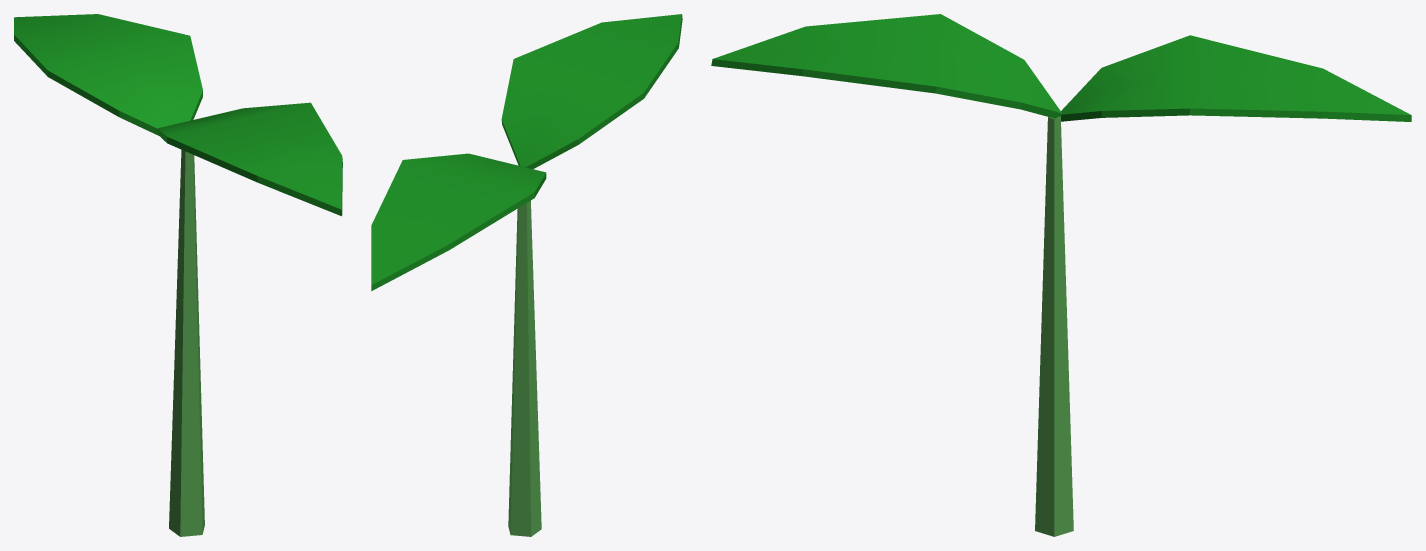
File: seed2.fbx
The picture shows the model from 3 angles, left to right: view 1: azimuth 30°, elevation 25°; view 2: azimuth 150°, elevation 25°; view 3: azimuth 270°, elevation 25°; orthographic projection. The views are drawn at different scales.
Visible parts, largest first — view 1: Cylinder001; view 2: Cylinder001; view 3: Cylinder001.
Boxes of the visible parts, box(x1,y1,x2,y2) form: Cylinder001: box(14, 14, 342, 536); Cylinder001: box(371, 14, 682, 536); Cylinder001: box(711, 14, 1411, 536).
Size of the model in its own units: 4.34 by 13.15 by 17.5.
